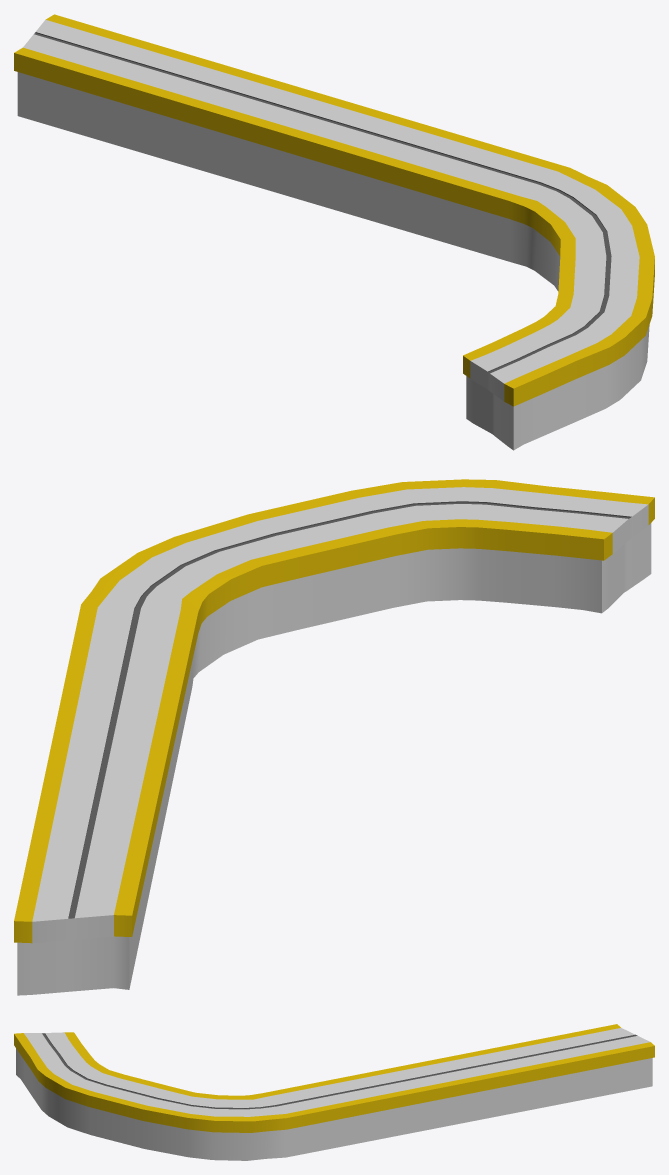
File: Road2.fbx
The picture shows the model from 3 angles, top to bottom: view 1: azimuth 30°, elevation 25°; view 2: azimuth 150°, elevation 25°; view 3: azimuth 270°, elevation 25°; orthographic projection. The views are drawn at different scales.
Visible parts, largest first — view 1: pCube31; view 2: pCube31; view 3: pCube31.
Boxes of the visible parts, <box> form: pCube31: <box>14,14,654,450</box>; pCube31: <box>14,479,654,995</box>; pCube31: <box>14,1024,654,1160</box>.
Size of the model in its own units: 1490 by 292 by 4147.
